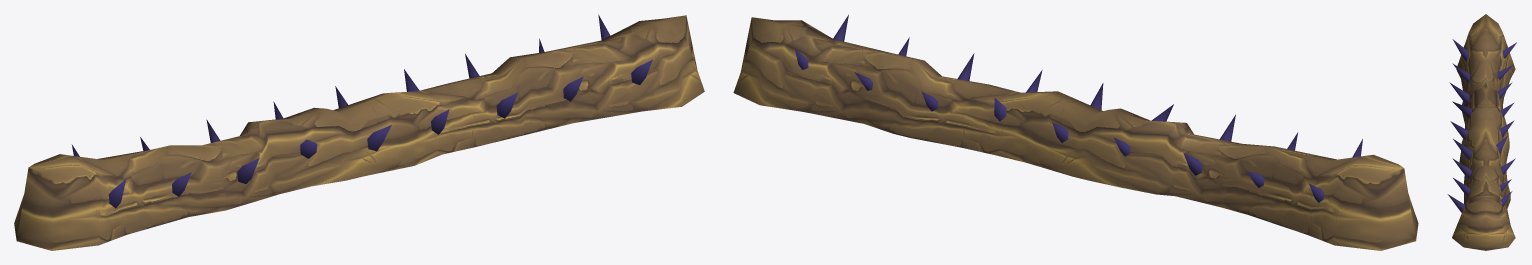
The model's file is Wall_TileEdge_Full_01.FBX.
3 views of the same model, side by side, from view 1: azimuth 30°, elevation 25°; view 2: azimuth 150°, elevation 25°; view 3: azimuth 270°, elevation 25° (orthographic). The views are drawn at different scales.
Parts seen in each view (by area): view 1: Wall_TileEdge_Full_01; view 2: Wall_TileEdge_Full_01; view 3: Wall_TileEdge_Full_01.
Boxes of the visible parts, bbox=[...] form: Wall_TileEdge_Full_01: bbox=[14, 14, 704, 250]; Wall_TileEdge_Full_01: bbox=[733, 14, 1418, 250]; Wall_TileEdge_Full_01: bbox=[1447, 14, 1516, 250].
Bounding box in the file's own units: 20.88 × 2.07 × 3.13.
